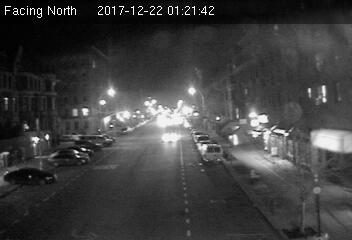car: (160, 129, 178, 144)
truck: (201, 144, 223, 164)
